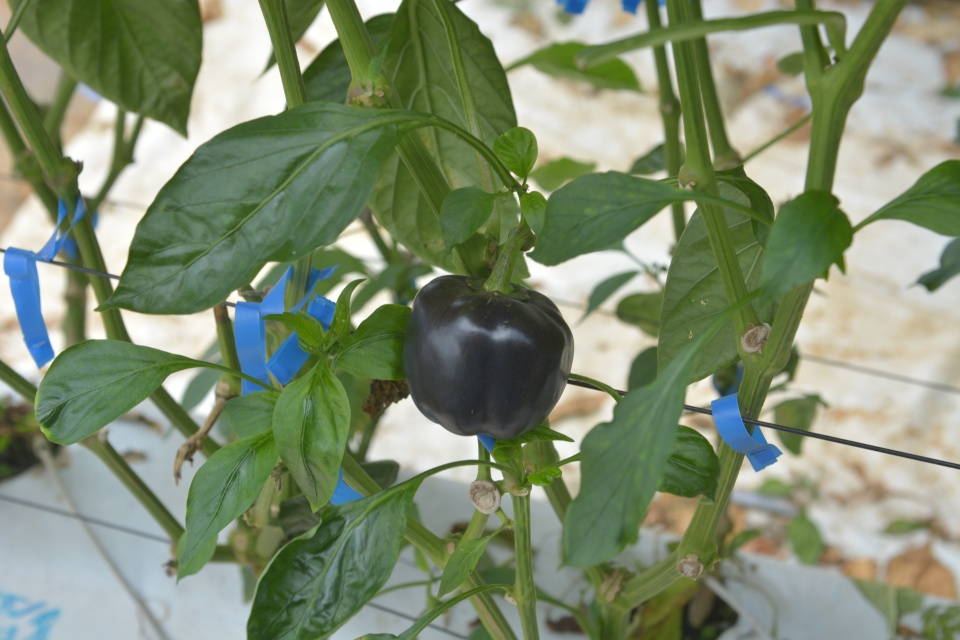fruit: (400, 269, 576, 444)
pedicle: (464, 275, 532, 300)
